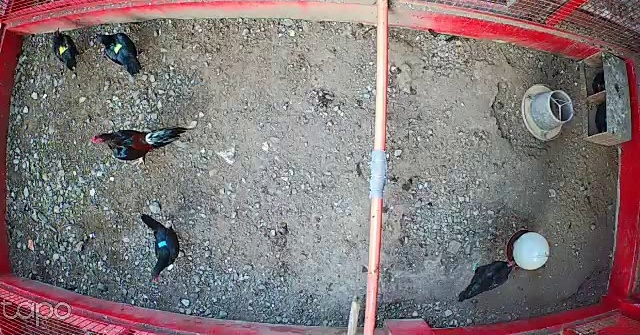Chicken: (139, 208, 188, 285), (455, 257, 519, 305), (94, 29, 147, 76), (50, 28, 87, 71)
Rooster: (90, 119, 187, 165)
Saddle_Color_Blue: (159, 239, 168, 247)
Saddle_Color_Yellow: (57, 40, 71, 55)
Saddle_Color_YellowGreen: (110, 37, 124, 55)
